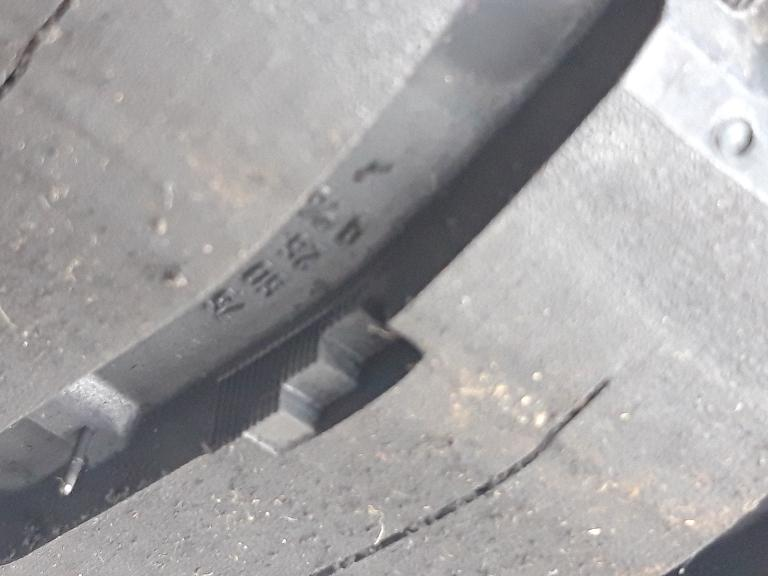temoin:75: (232, 286, 440, 467)
